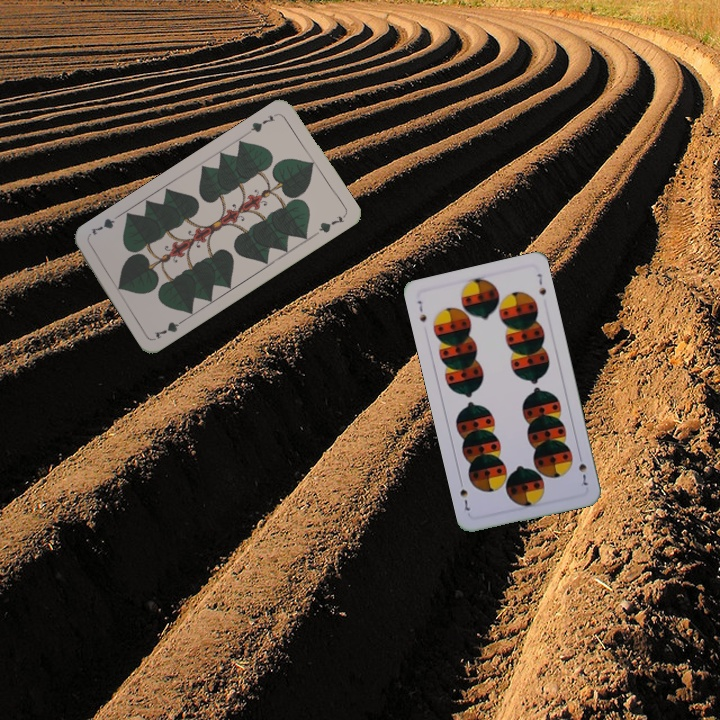G7: (150, 314, 188, 341), (244, 111, 277, 136)
S7: (574, 450, 590, 488), (413, 296, 429, 325)
